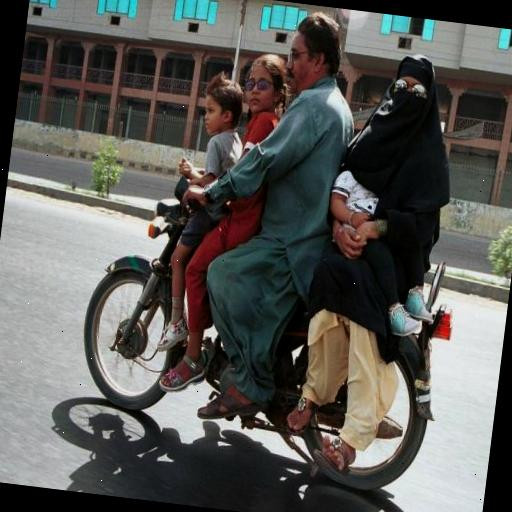no helmet: (262, 7, 374, 150)
triple riding: (58, 0, 488, 501)
